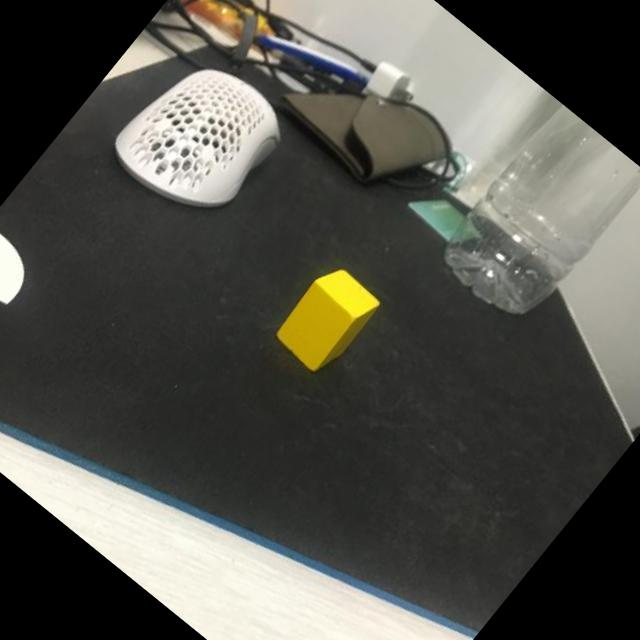yellow: (268, 258, 387, 382)
